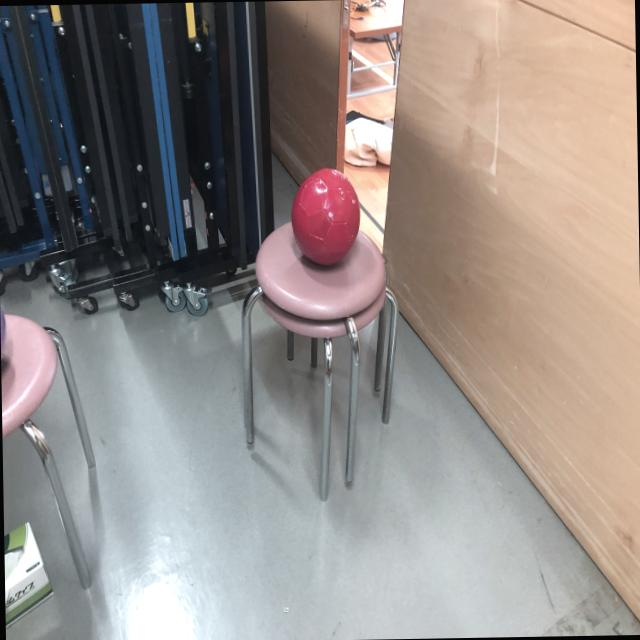red_ball: (292, 168, 360, 264)
